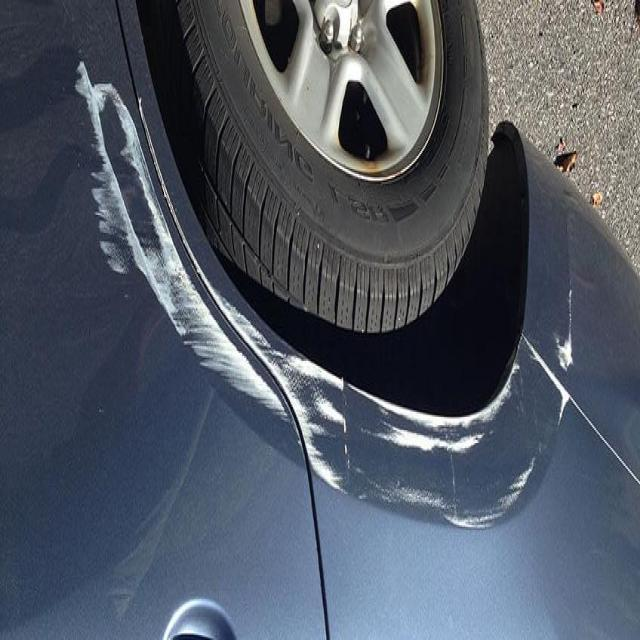scratch: (55, 38, 352, 586), (352, 291, 602, 562)
